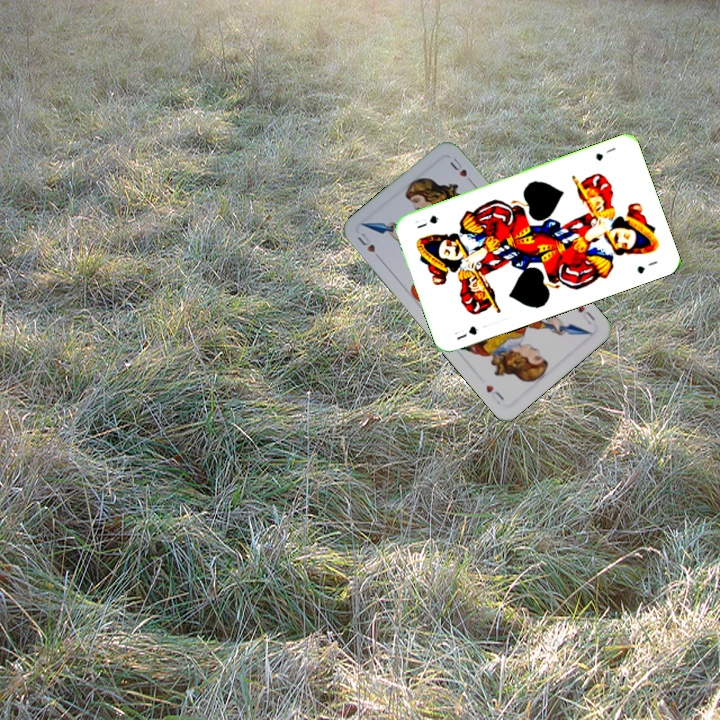GU: (450, 321, 481, 343), (591, 143, 618, 163)
HU: (353, 229, 384, 263), (573, 300, 598, 327)
